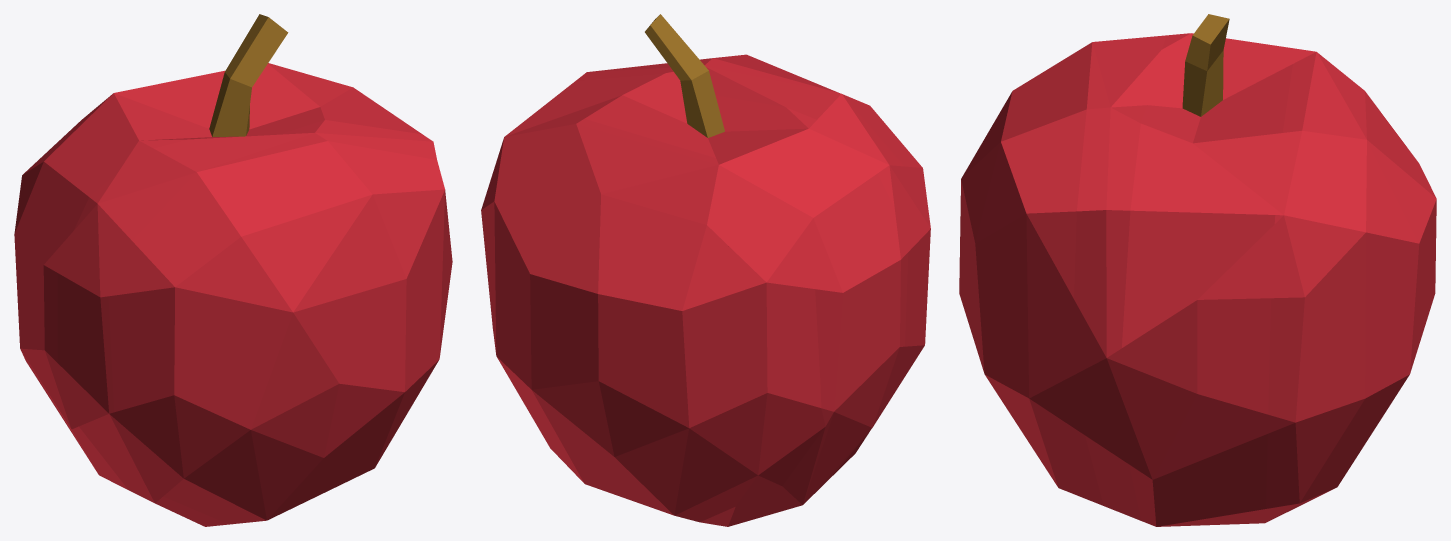
File: RedApple.fbx
The picture shows the model from 3 angles, left to right: view 1: azimuth 30°, elevation 25°; view 2: azimuth 150°, elevation 25°; view 3: azimuth 270°, elevation 25°; orthographic projection. The views are drawn at different scales.
Visible parts, largest first — view 1: apple.021, apple, apple.019, apple.020, apple.018; view 2: apple.017, apple.019, apple.018, apple.020, apple; view 3: apple.019, apple.018, apple.020, apple, apple.017, apple.021.
Boxes of the visible parts, box(x1,y1,x2,y2) form: apple.021: box(174, 189, 444, 520); apple: box(108, 141, 449, 524); apple.019: box(14, 14, 421, 489); apple.020: box(57, 120, 452, 526); apple.018: box(14, 63, 356, 233); apple.017: box(494, 194, 767, 522); apple.019: box(509, 14, 908, 526); apple.018: box(481, 118, 842, 526); apple.020: box(576, 58, 930, 475); apple: box(713, 54, 929, 221); apple.019: box(1117, 14, 1299, 526); apple.018: box(1265, 49, 1366, 522); apple.020: box(1072, 35, 1166, 520); apple: box(1001, 42, 1103, 505); apple.017: box(1300, 91, 1436, 504); apple.021: box(959, 92, 1057, 486).
Bounding box in the file's own units: 153 × 180 × 152.
